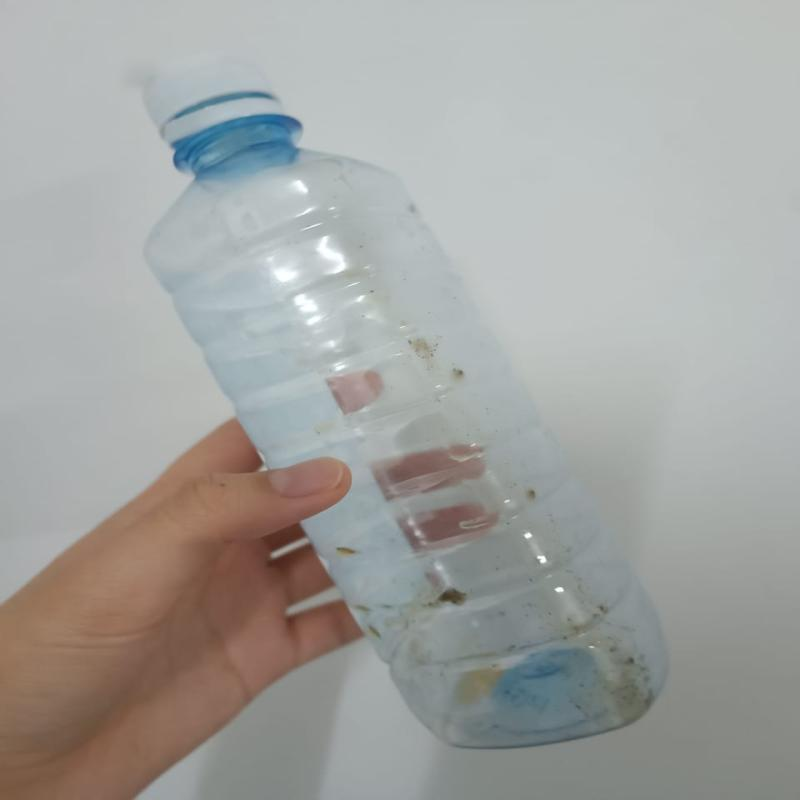botella: (145, 59, 680, 756)
